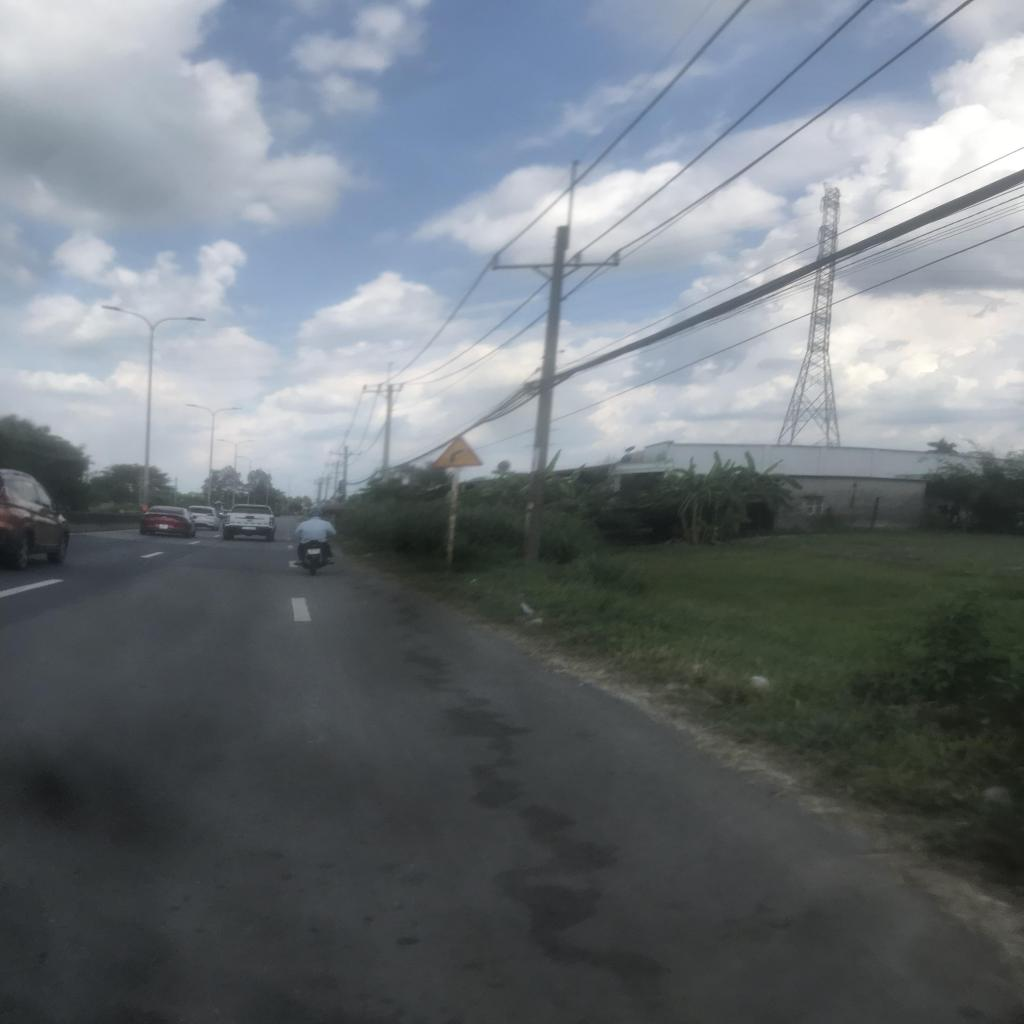cho_ngoat_nguy_hiem_ben_phai: (432, 434, 486, 468)
